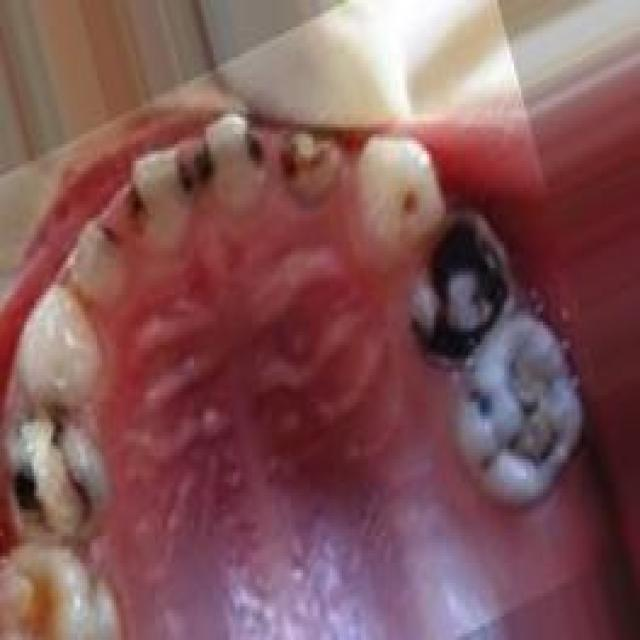caries: (462, 316, 582, 503), (2, 394, 114, 553), (409, 203, 516, 357), (122, 146, 195, 246), (193, 115, 267, 204), (275, 125, 347, 214), (3, 553, 64, 640), (80, 212, 121, 284), (392, 173, 428, 233)
